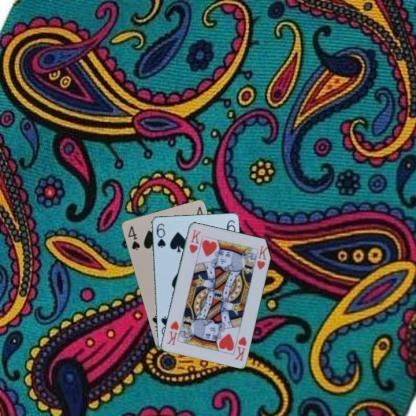4s: (125, 223, 141, 251)
6s: (154, 221, 166, 249)
Kh: (232, 333, 248, 362), (187, 227, 202, 254)
